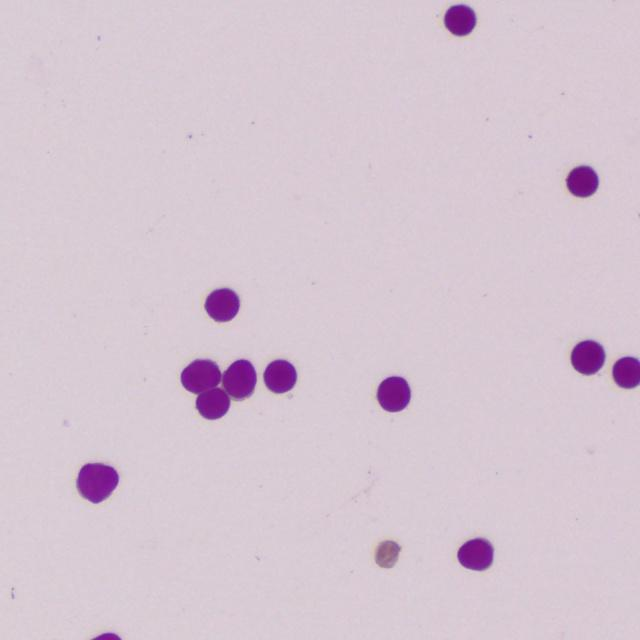viable: (77, 463, 118, 503), (182, 359, 221, 393), (222, 360, 256, 398), (377, 377, 410, 411), (205, 288, 239, 321), (458, 538, 492, 570), (572, 341, 604, 374), (196, 388, 229, 419), (264, 360, 295, 392), (567, 166, 598, 196), (444, 5, 475, 35), (613, 356, 639, 388), (93, 633, 120, 639)
